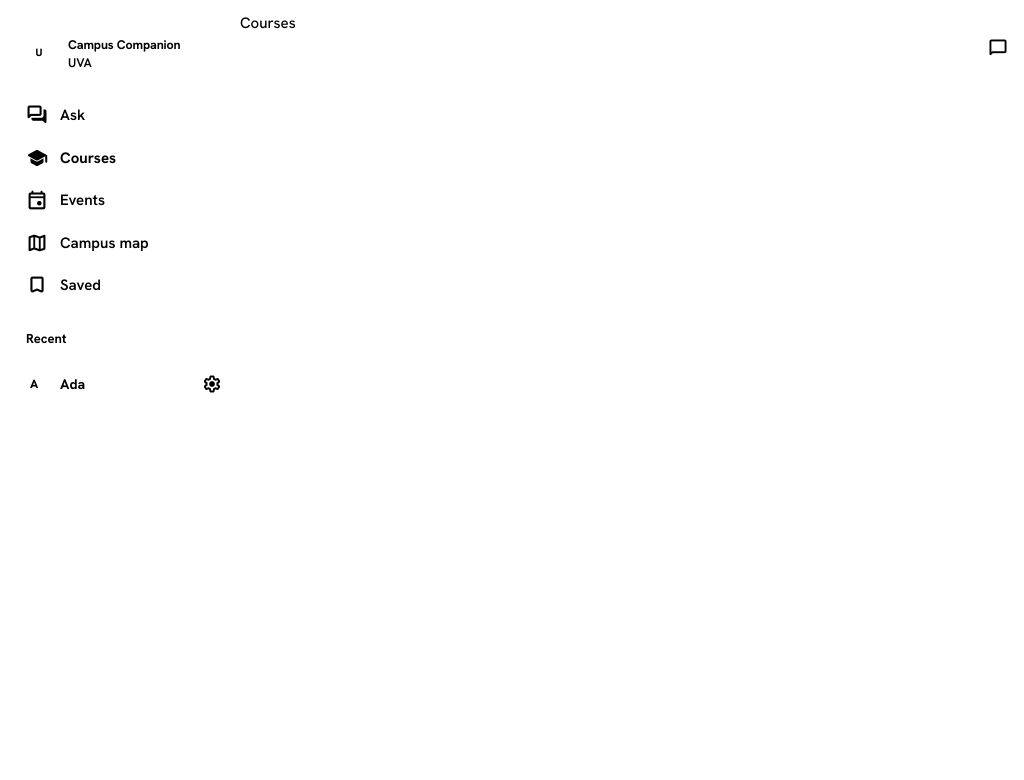
Scenario: chat dock by width (D17) › 701–1279px: collapsed by default, opens as a drawer, Escape closes it
Click the button named "Open Ask": (998, 48) x1=976 y1=26 x2=1020 y2=70
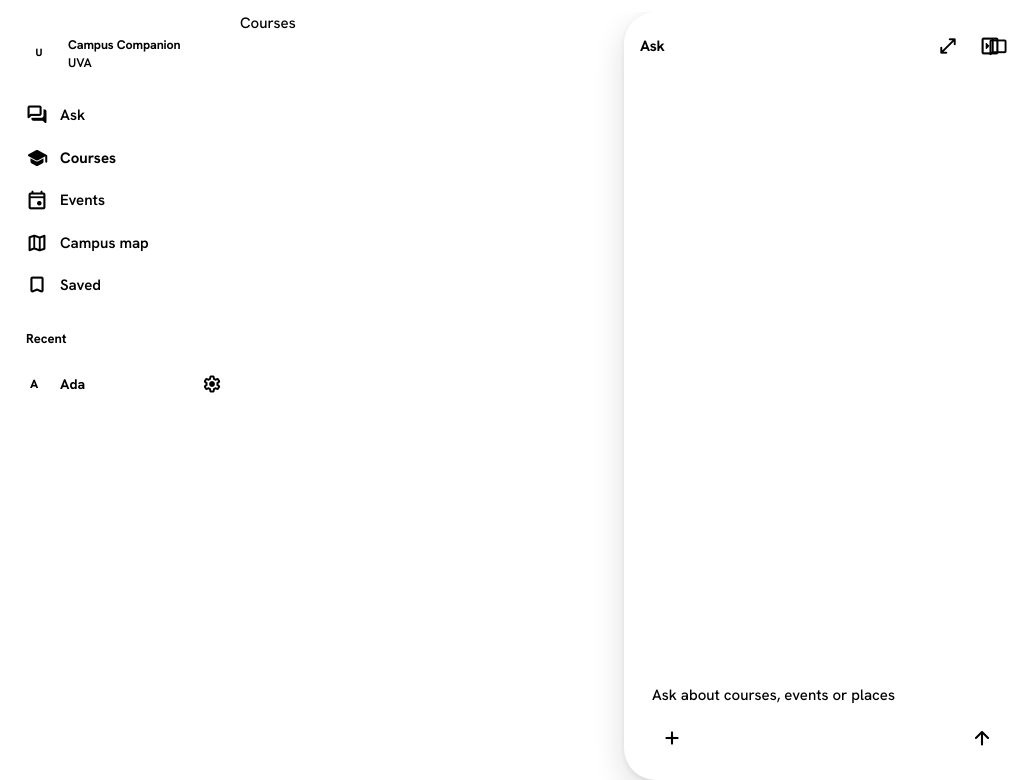
Press Escape in the text box, box x1=652 y1=684 x2=994 y2=710
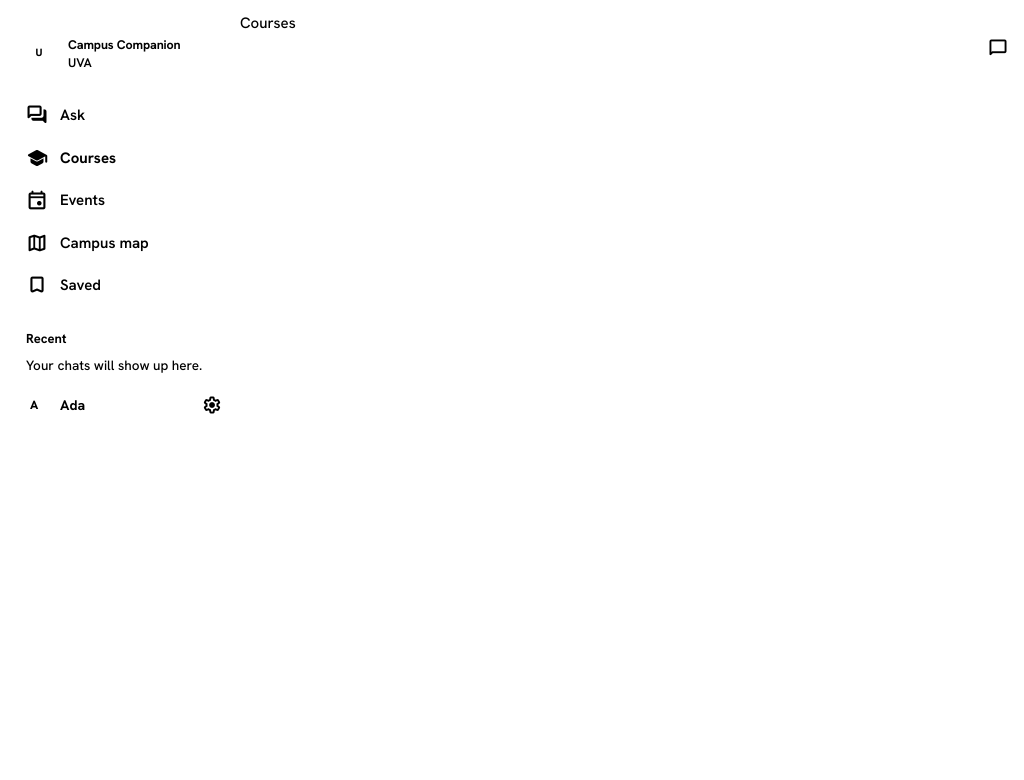
Result: the text "Your chats will show up here." is shown at x1=26 y1=356 x2=202 y2=374
